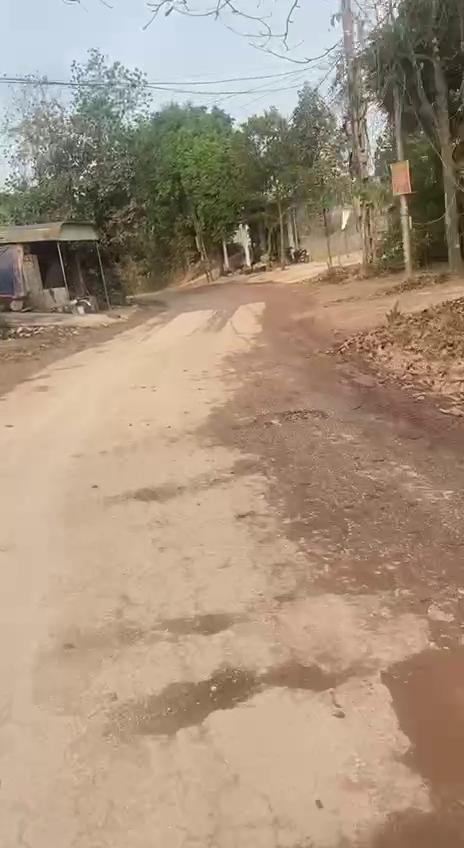pothole: (106, 648, 356, 750), (356, 630, 464, 848), (162, 597, 244, 642), (240, 400, 333, 435)
